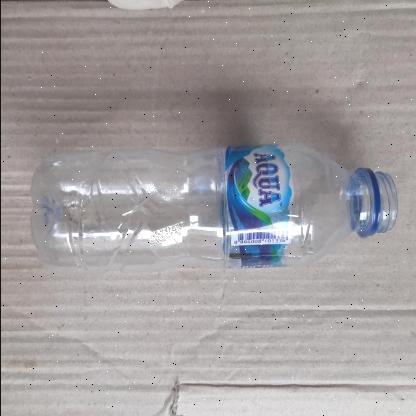Plastic Bottle: (26, 145, 400, 265)
